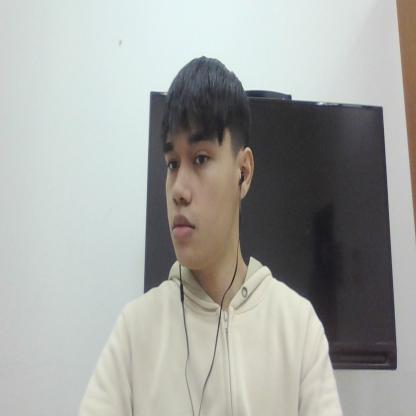Open-Eyes: (162, 117, 222, 183)
